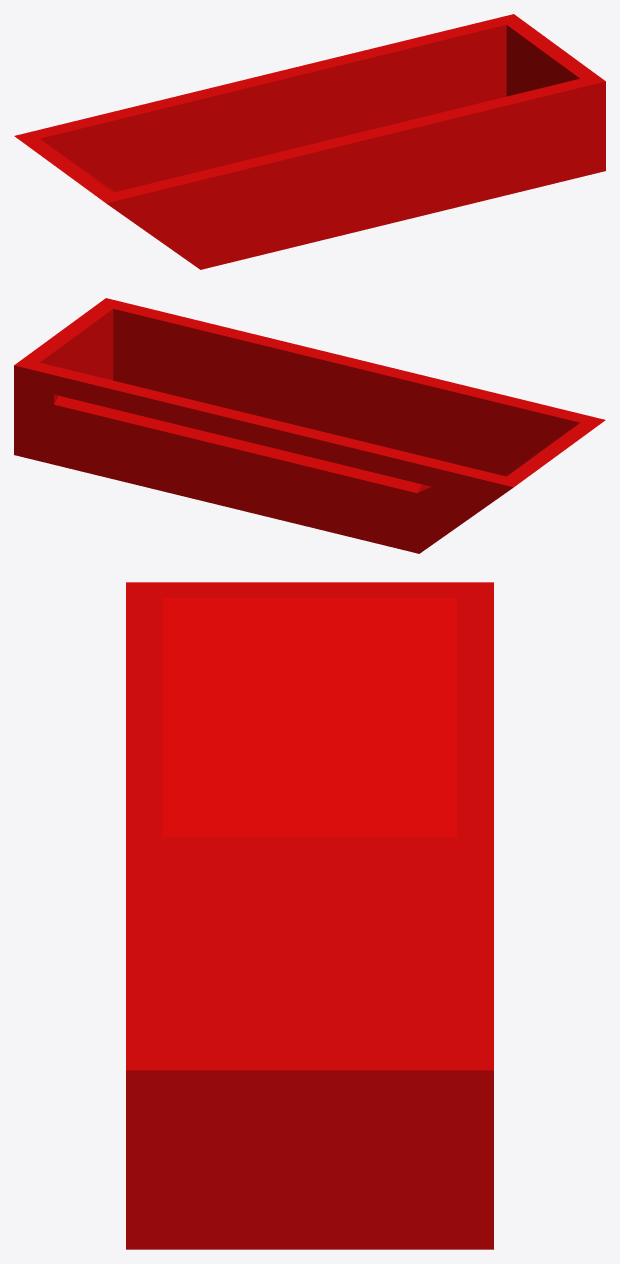
Rendered from AntagPCDesk_DrawerD.fbx.
The picture shows the model from 3 angles, top to bottom: view 1: azimuth 30°, elevation 25°; view 2: azimuth 150°, elevation 25°; view 3: azimuth 270°, elevation 25°; orthographic projection. The views are drawn at different scales.
Parts seen in each view (by area): view 1: AntagPCDesk_DrawerD; view 2: AntagPCDesk_DrawerD; view 3: AntagPCDesk_DrawerD.
Boxes of the visible parts, x1,y1,x2,y2 form: AntagPCDesk_DrawerD: (14,14,605,269); AntagPCDesk_DrawerD: (14,298,605,553); AntagPCDesk_DrawerD: (126,582,493,1249).
Size of the model in its own units: 197 by 33.81 by 62.93.
